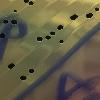black: (86, 11, 95, 21), (55, 23, 64, 32), (8, 61, 16, 71), (19, 74, 28, 82), (27, 66, 36, 74), (70, 13, 78, 22), (10, 18, 18, 26), (36, 36, 43, 44), (58, 38, 65, 46), (49, 29, 56, 37), (0, 31, 6, 40), (3, 19, 10, 26), (45, 35, 52, 42), (28, 1, 35, 7), (23, 0, 30, 5), (94, 5, 99, 12), (14, 9, 18, 13)
